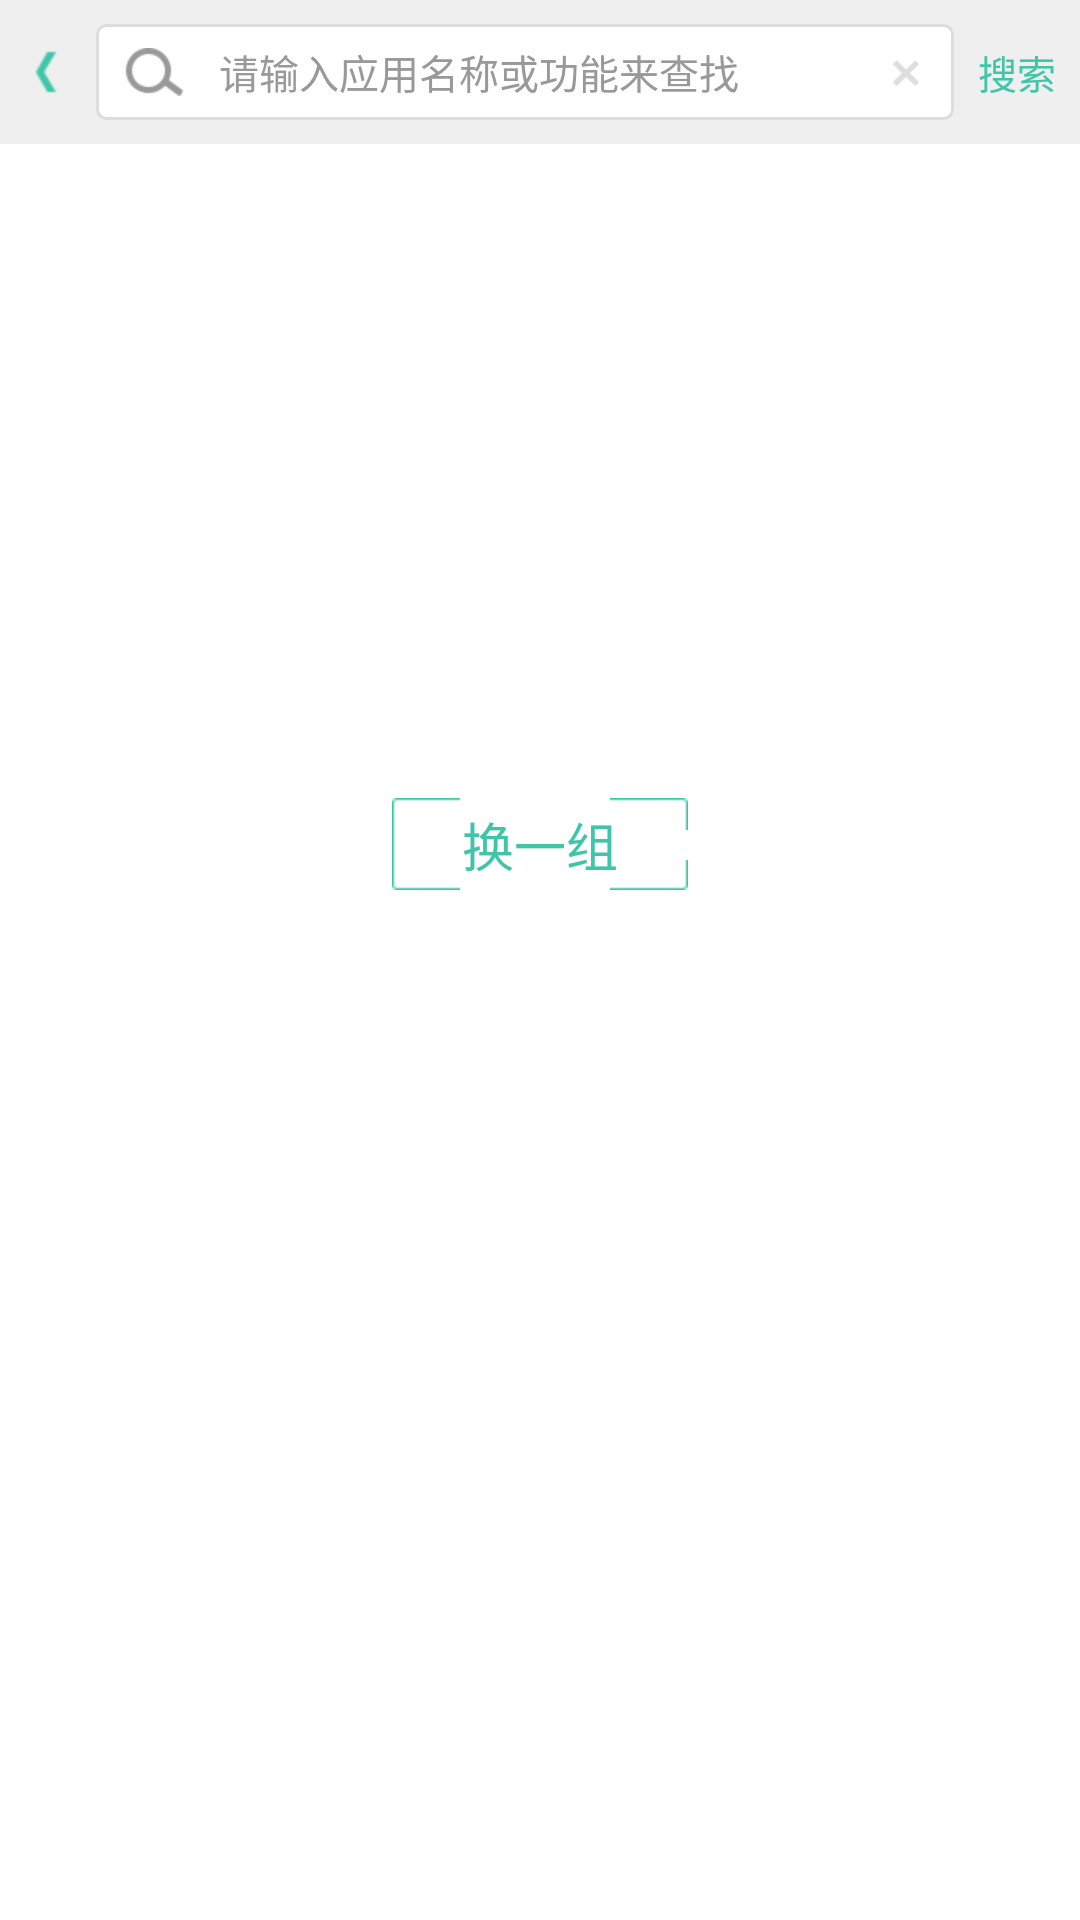

Icons on this 1080w x 1920h Android screen, each with the point to tap as (x=x, y=y):
searchbar search: (x=154, y=72)
top bar back: (x=46, y=72)
